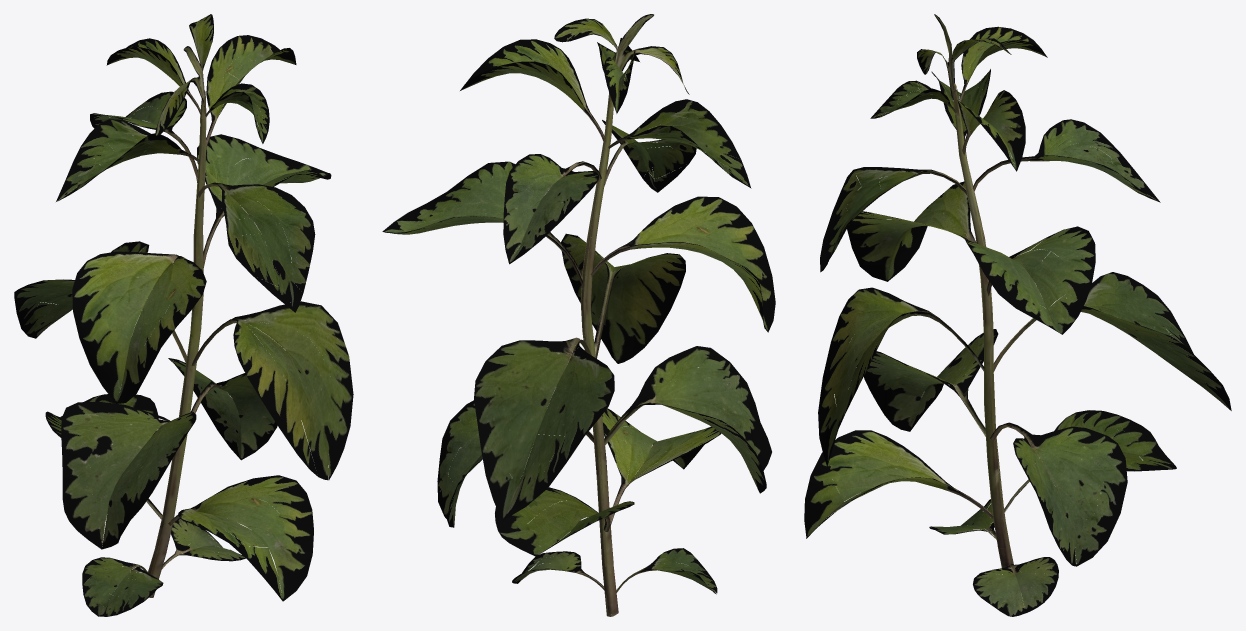
File: nettle_plant_0.gltf
3 renders of one model, left to right at view 1: azimuth 30°, elevation 25°; view 2: azimuth 150°, elevation 25°; view 3: azimuth 270°, elevation 25°, orthographic.
Visible parts, largest first — view 1: nettle_plant_medium_a_LOD0; view 2: nettle_plant_medium_a_LOD0; view 3: nettle_plant_medium_a_LOD0.
Boxes of the visible parts, x1,y1,x2,y2 form: nettle_plant_medium_a_LOD0: [14, 14, 353, 616]; nettle_plant_medium_a_LOD0: [382, 14, 775, 616]; nettle_plant_medium_a_LOD0: [804, 14, 1231, 616].
Bounding box in the file's own units: 0.0773 × 0.1315 × 0.0891.
Materials: 1 (1 with a texture image).
